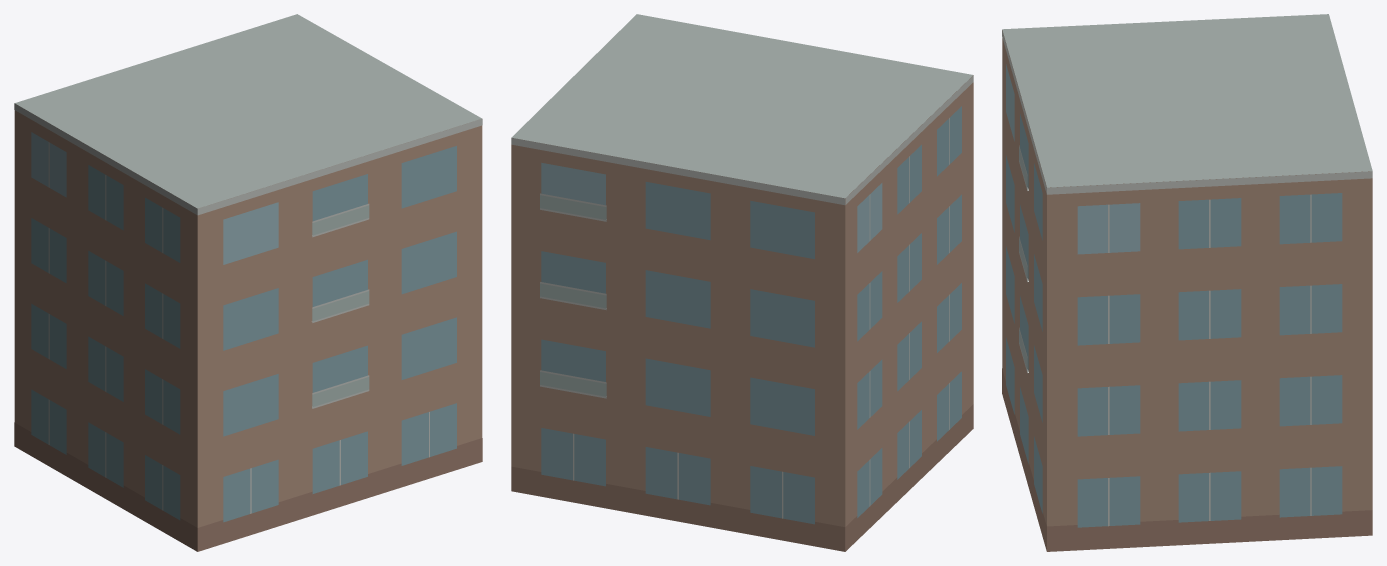
File: survey-upis-32673181.glb
The picture shows the model from 3 angles, left to right: view 1: azimuth 30°, elevation 25°; view 2: azimuth 150°, elevation 25°; view 3: azimuth 270°, elevation 25°; orthographic projection. The views are drawn at different scales.
Visible parts, largest first — view 1: survey-upis-32673181.tmp; view 2: survey-upis-32673181.tmp; view 3: survey-upis-32673181.tmp.
Boxes of the visible parts, box(x1,y1,x2,y2) form: survey-upis-32673181.tmp: box(14, 14, 482, 551); survey-upis-32673181.tmp: box(511, 14, 973, 551); survey-upis-32673181.tmp: box(1002, 14, 1372, 551).
Size of the model in its own units: 12.68 by 12.4 by 11.44.
